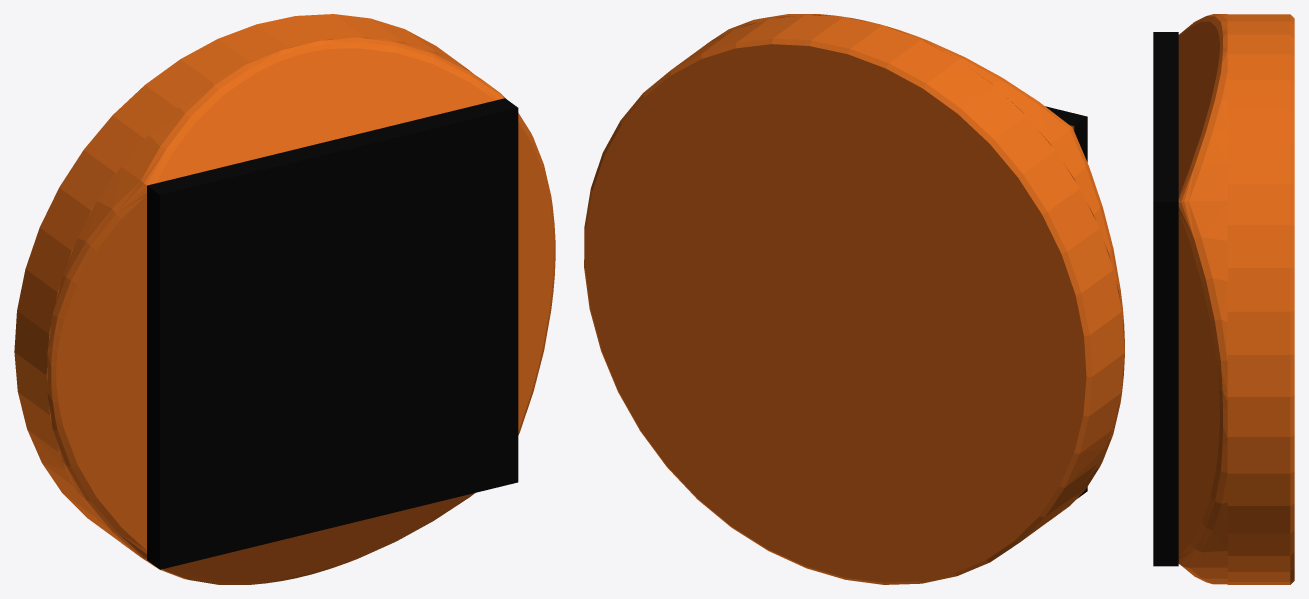
File: myrmex_quick_mount.dae
3 views of the same model, side by side, from view 1: azimuth 30°, elevation 25°; view 2: azimuth 150°, elevation 25°; view 3: azimuth 270°, elevation 25° (orthographic). The views are drawn at different scales.
Visible parts, largest first — view 1: MyrmexQuickMount_ROSaligned_convexhull; view 2: MyrmexQuickMount_ROSaligned_convexhull; view 3: MyrmexQuickMount_ROSaligned_convexhull.
Part boxes in pixels (x1,y1,x2,y2): MyrmexQuickMount_ROSaligned_convexhull: (14,14,555,584); MyrmexQuickMount_ROSaligned_convexhull: (584,14,1124,584); MyrmexQuickMount_ROSaligned_convexhull: (1153,14,1294,584).
Size of the model in its own units: 135 by 135 by 33.34.
